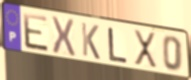0: (161, 34, 184, 74)
E: (22, 12, 51, 54)
K: (80, 21, 101, 62)
L: (108, 26, 129, 65)
X: (50, 15, 77, 58), (133, 28, 159, 71)
